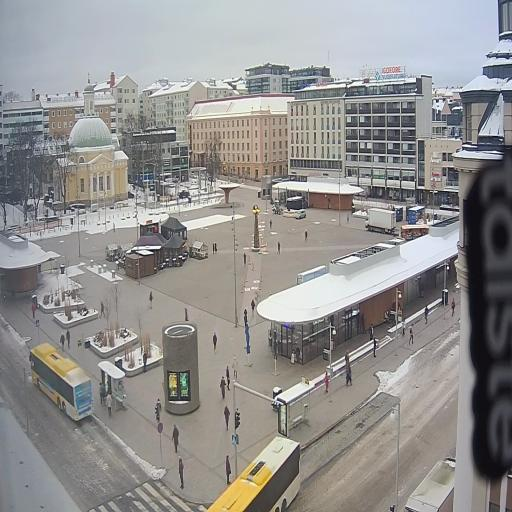Bus: (207, 436, 301, 512), (29, 343, 93, 421)
